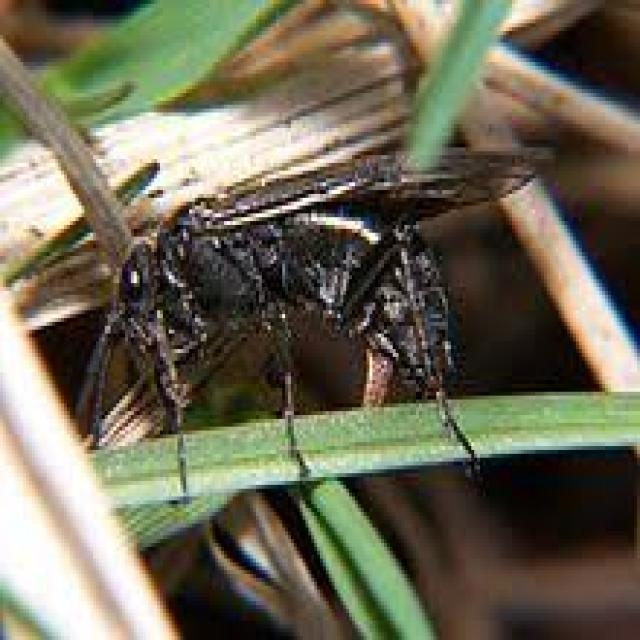Saw Fly: (78, 135, 567, 515)
